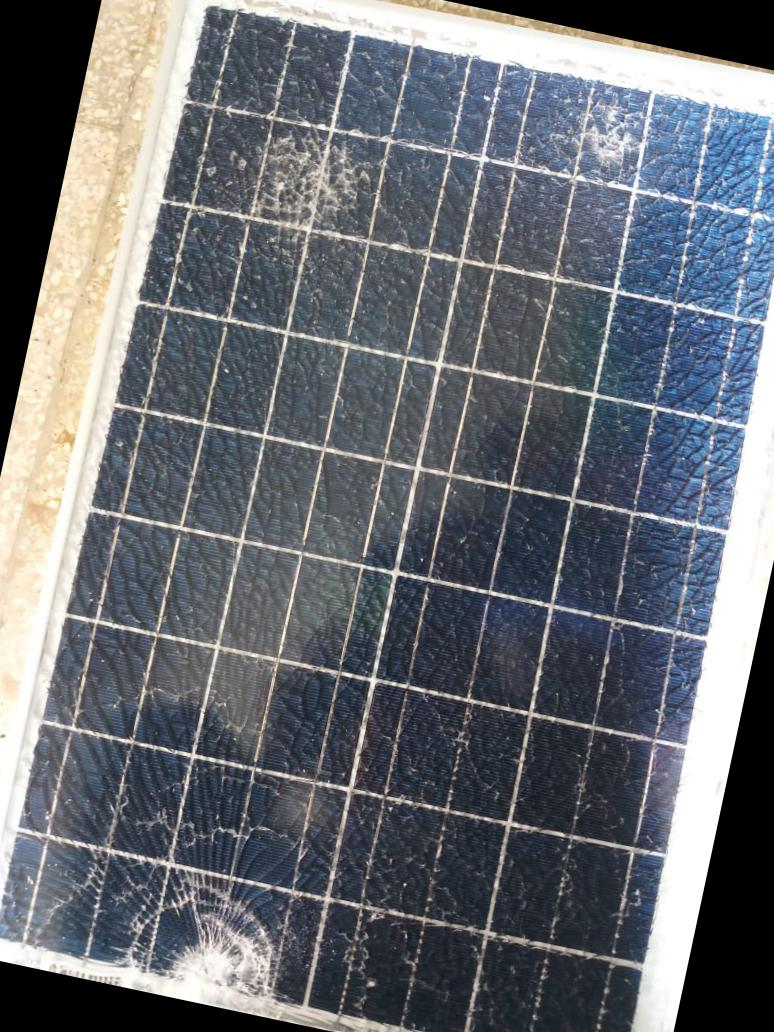Crack: (0, 0, 773, 1031), (22, 766, 434, 1029), (230, 111, 384, 264), (550, 76, 668, 201)
